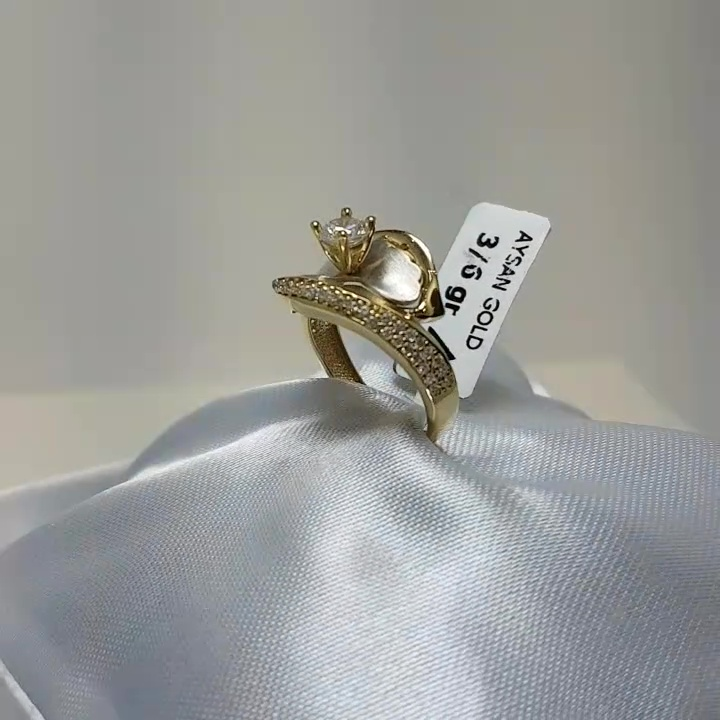Ring 6: (269, 188, 470, 468)
